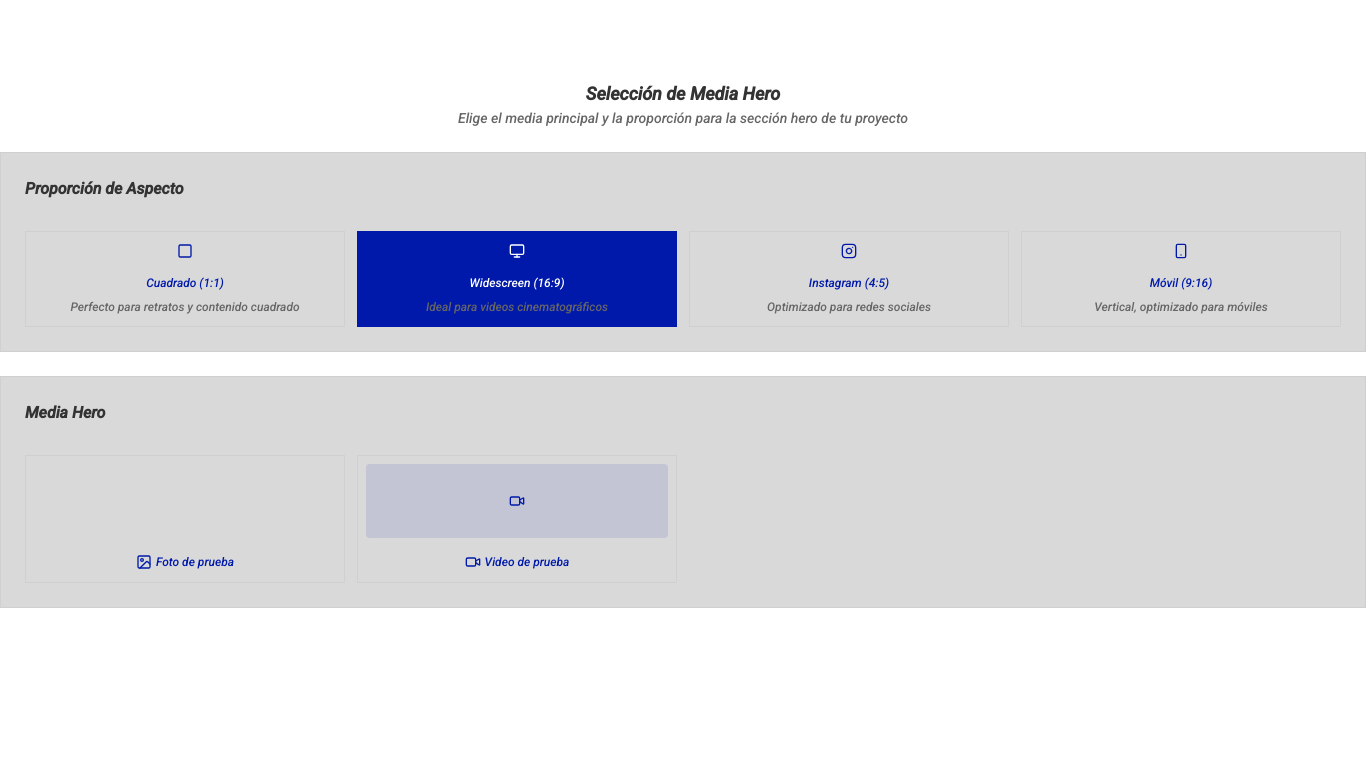
Test case: HeroMediaSelector › shows video settings when video is selected
The image size is (1366, 768).
Select a video
Click the button "Video de prueba" at x=517, y=519, box top-left (357, 455), bottom-right (677, 583)
(page scrolled)
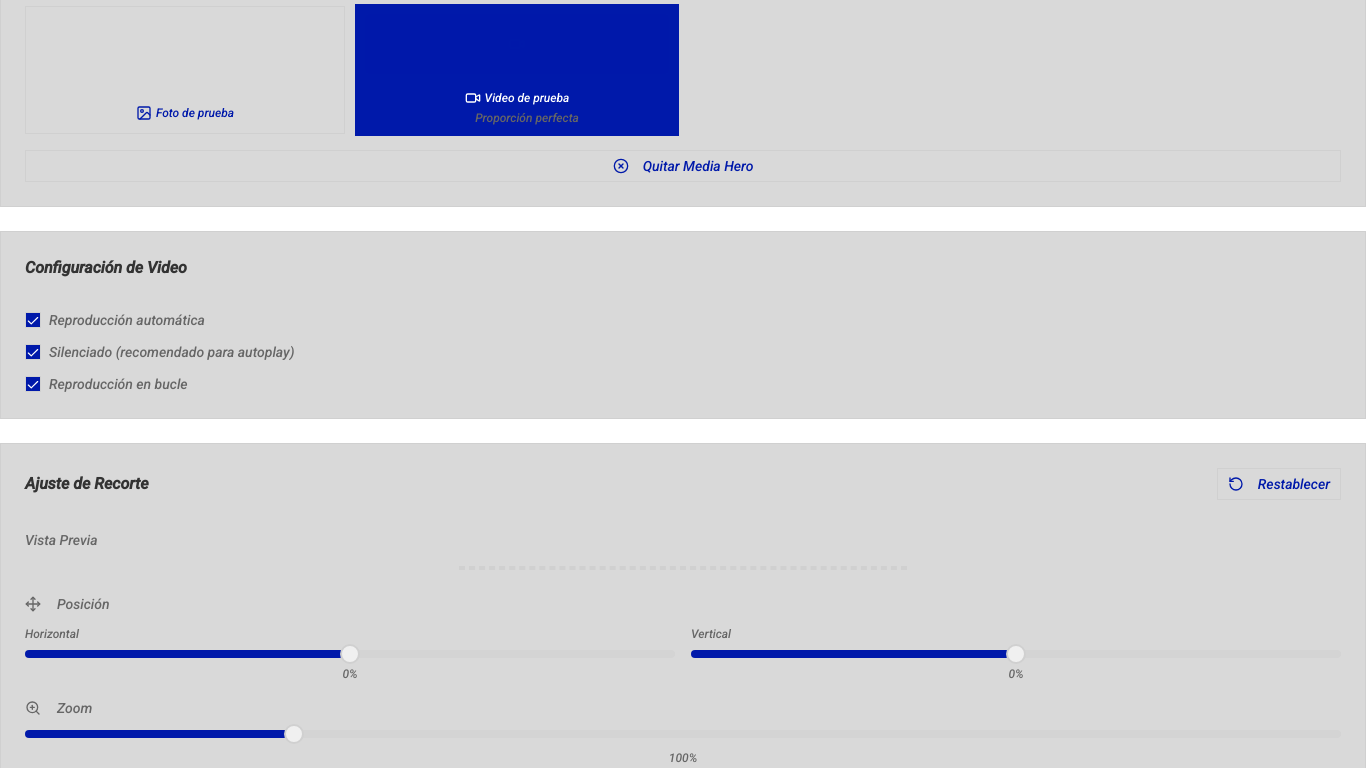
Expected: the text "Configuración de Video" is shown, top-left (25, 258), bottom-right (187, 277)
Expected: the text "Reproducción automática" is shown, top-left (49, 310), bottom-right (205, 330)
Expected: the text "Silenciado (recomendado para autoplay)" is shown, top-left (49, 342), bottom-right (294, 362)
